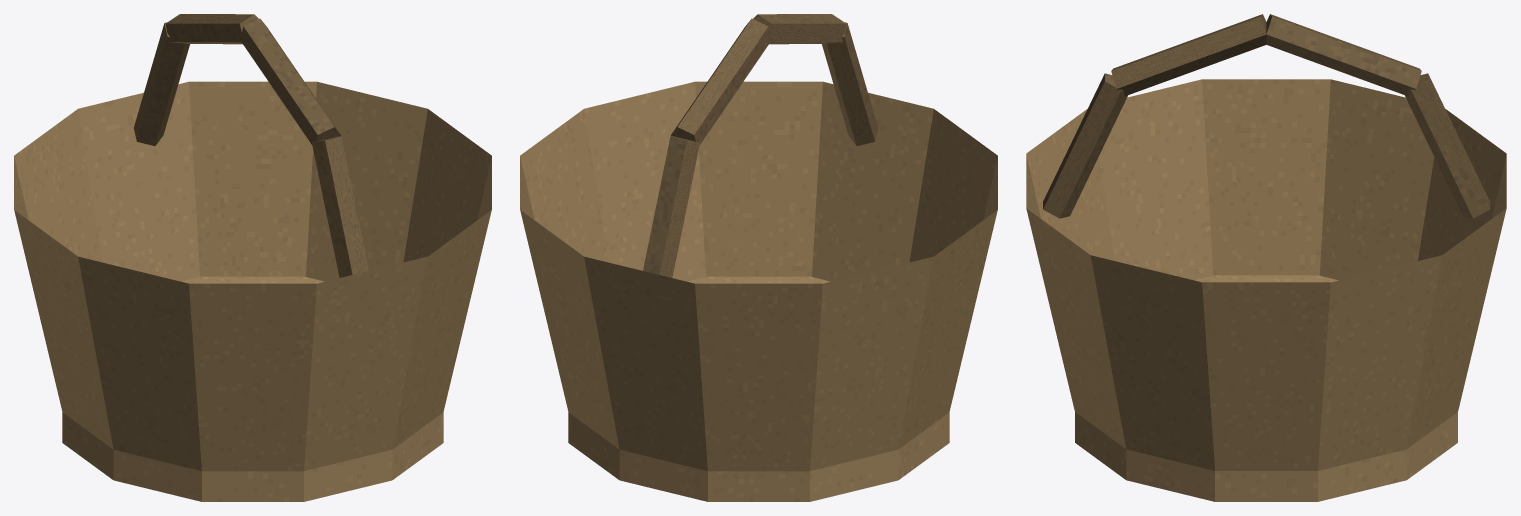
File: straw_basket.glb
The picture shows the model from 3 angles, left to right: view 1: azimuth 30°, elevation 25°; view 2: azimuth 150°, elevation 25°; view 3: azimuth 270°, elevation 25°; orthographic projection.
Parts seen in each view (by area): view 1: block_woven wall, block_woven foot, block_basket handle 3, block_basket handle 2, block_basket handle 0, block_basket handle 1; view 2: block_woven wall, block_woven foot, block_basket handle 0, block_basket handle 1, block_basket handle 3, block_basket handle 2; view 3: block_woven wall, block_woven foot, block_basket handle 1, block_basket handle 2, block_basket handle 0, block_basket handle 3.
Boxes of the visible parts, x1=… form: block_woven wall: x1=14, y1=81, x2=491, y2=471; block_woven foot: x1=62, y1=276, x2=443, y2=501; block_basket handle 3: x1=312, y1=136, x2=368, y2=277; block_basket handle 2: x1=240, y1=18, x2=340, y2=144; block_basket handle 0: x1=133, y1=22, x2=189, y2=145; block_basket handle 1: x1=165, y1=14, x2=258, y2=44; block_woven wall: x1=520, y1=81, x2=997, y2=471; block_woven foot: x1=568, y1=276, x2=949, y2=501; block_basket handle 0: x1=643, y1=136, x2=699, y2=277; block_basket handle 1: x1=671, y1=18, x2=771, y2=144; block_basket handle 3: x1=822, y1=22, x2=878, y2=145; block_basket handle 2: x1=753, y1=14, x2=846, y2=44; block_woven wall: x1=1026, y1=79, x2=1506, y2=470; block_woven foot: x1=1075, y1=275, x2=1457, y2=501; block_basket handle 1: x1=1266, y1=14, x2=1421, y2=96; block_basket handle 2: x1=1111, y1=14, x2=1266, y2=96; block_basket handle 0: x1=1405, y1=73, x2=1489, y2=218; block_basket handle 3: x1=1043, y1=73, x2=1127, y2=218.
Bounding box in the file's own units: 0.2956 × 0.2758 × 0.2956.
Materials: 2 (2 with a texture image).
